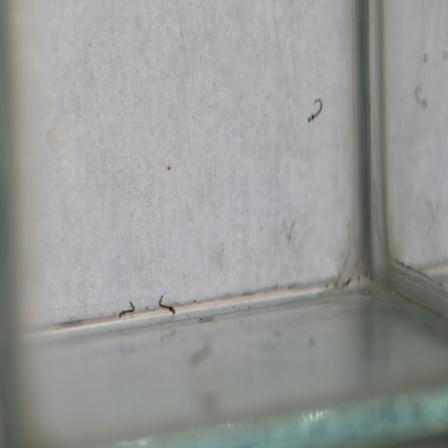Jentik-Nyamuk: (304, 94, 326, 125), (114, 298, 139, 323), (156, 290, 178, 317)
